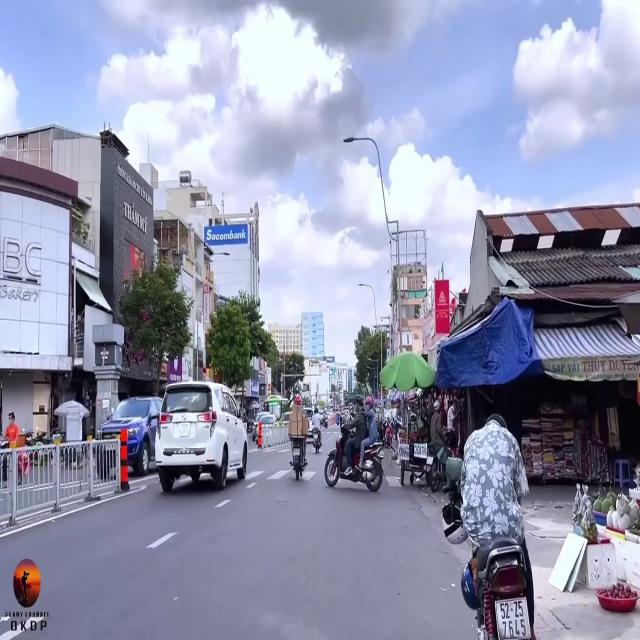bien_trang: (491, 594, 538, 640)
